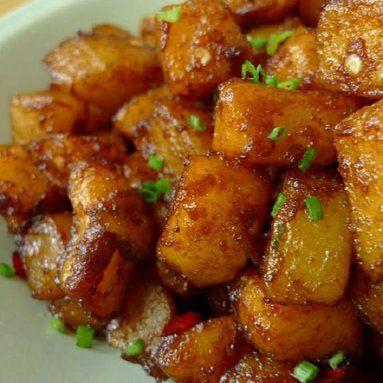AlooMasala: (0, 0, 381, 383)
